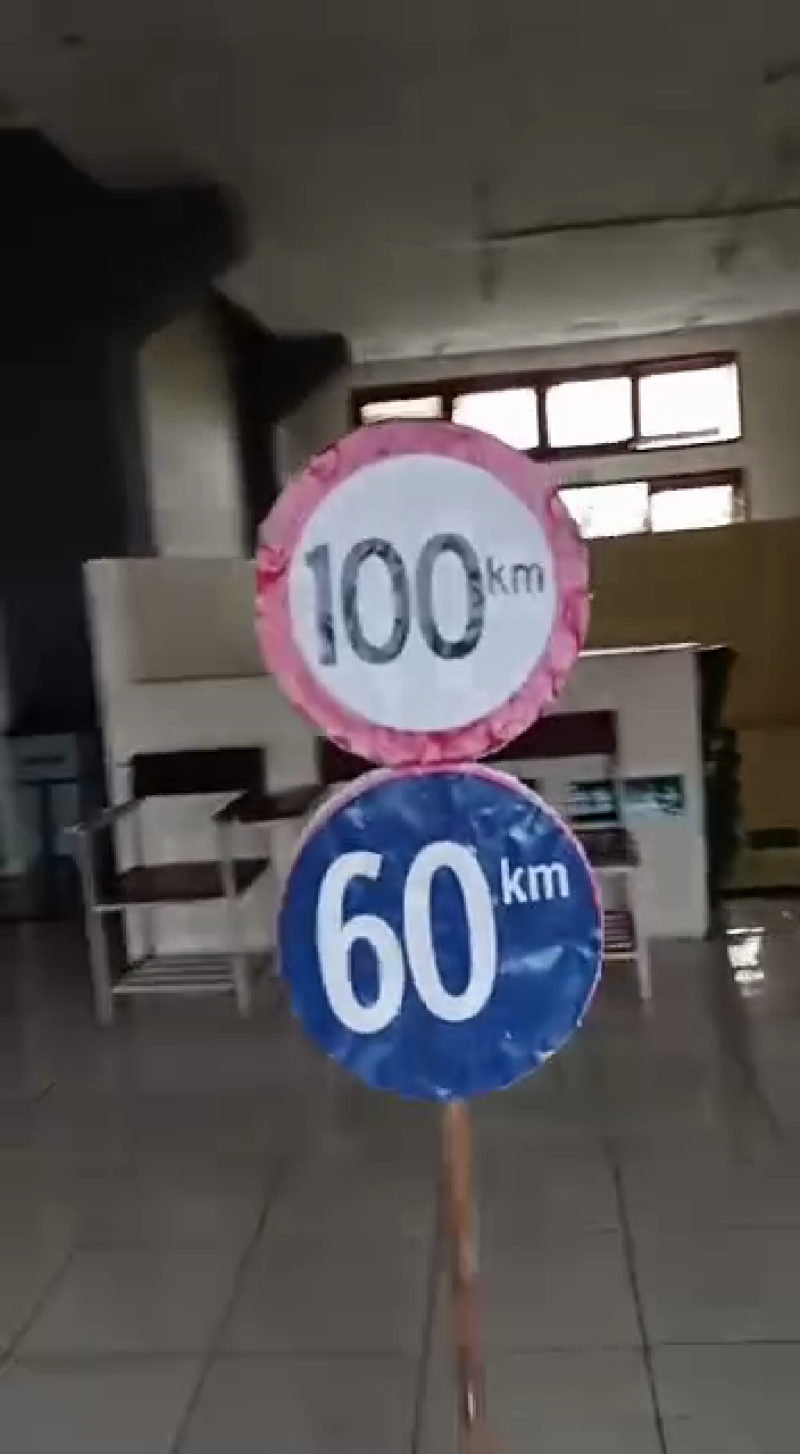batas maksimal 100kmperjam minimal 60kmperjam: (231, 402, 629, 1119)
